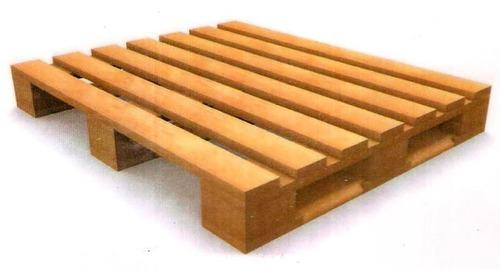wood: (8, 20, 489, 258)
